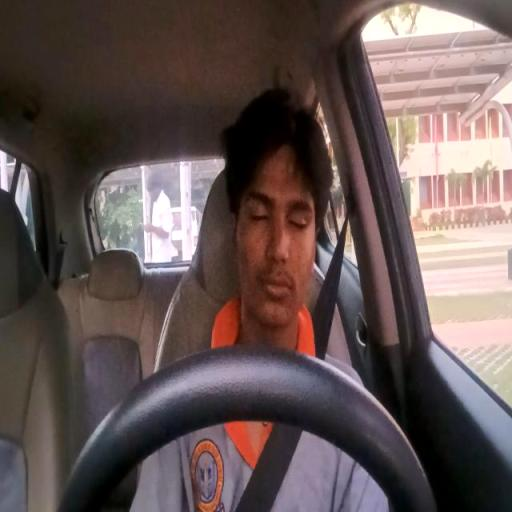sleepy: (224, 93, 331, 336)
